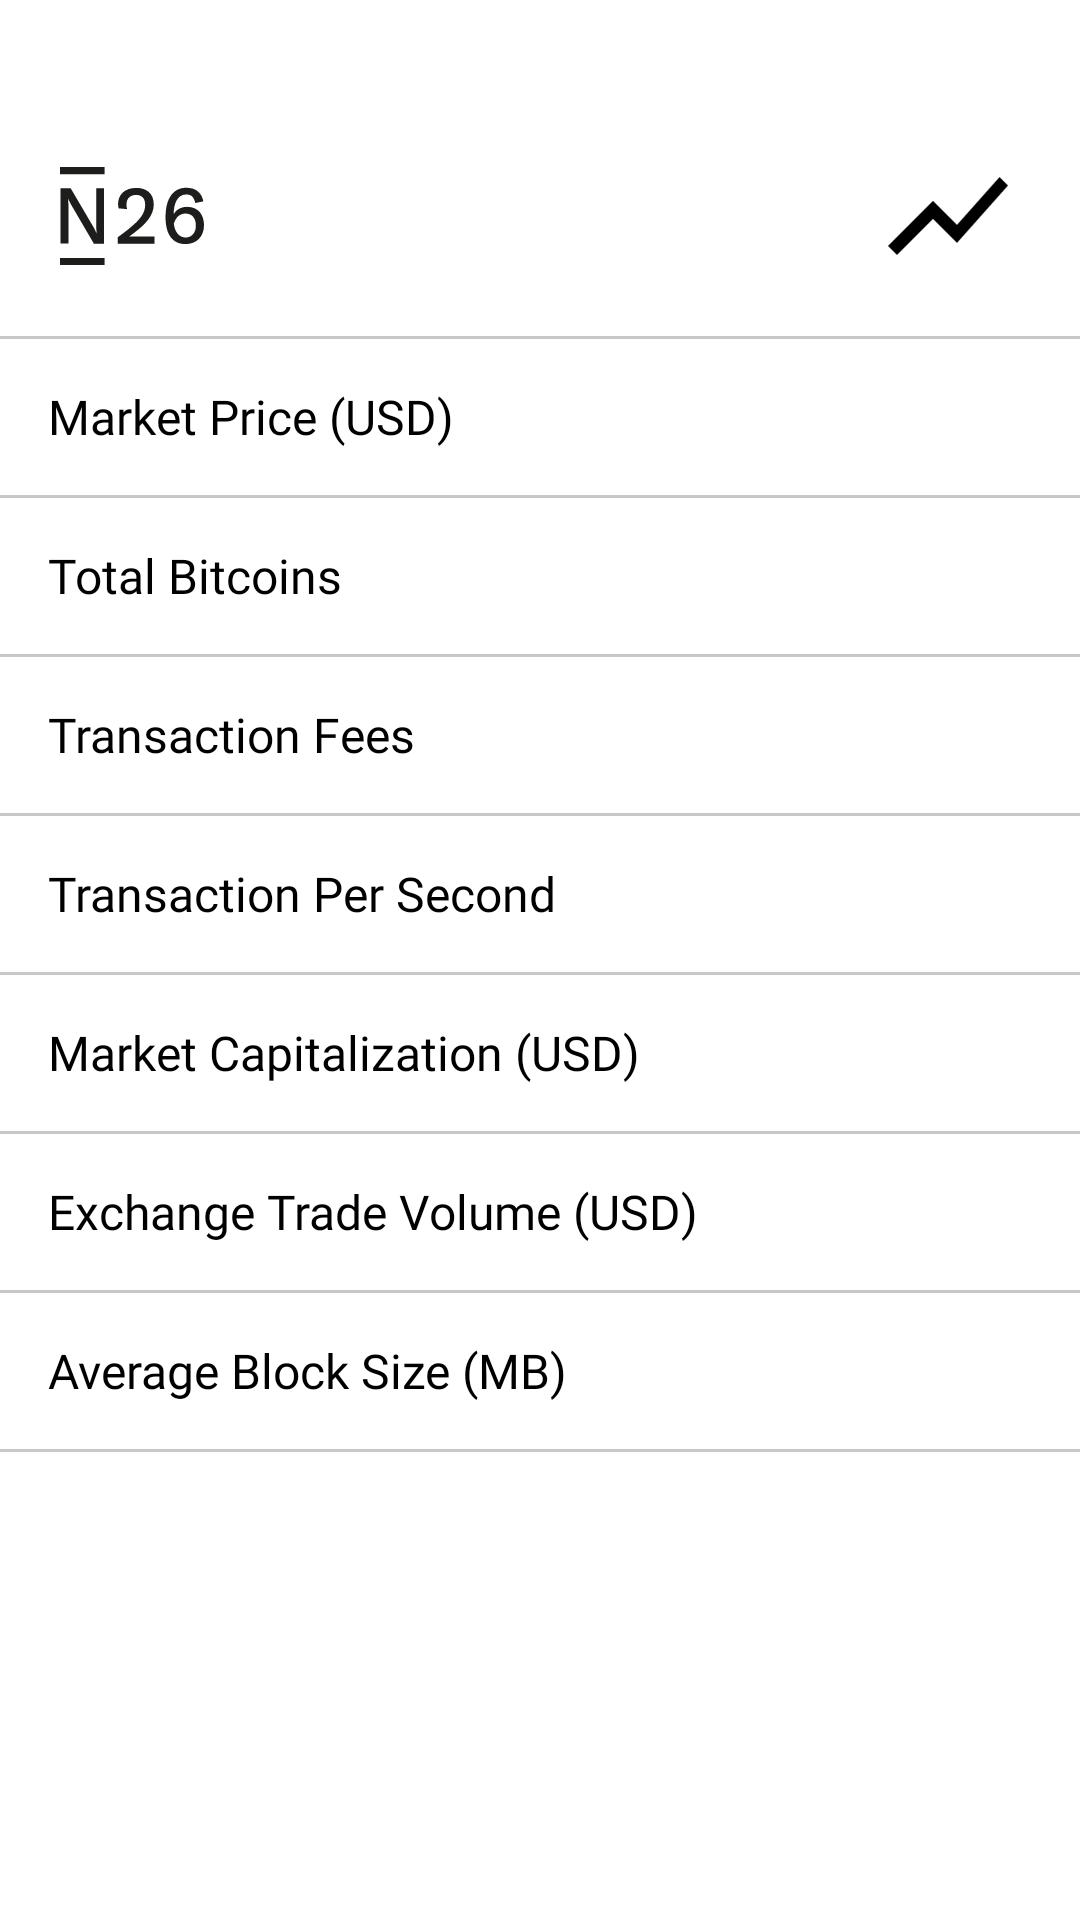

Where to tap for icons on this 1080 x 1920 app screen, as (x,y):
chart: (948,216)
